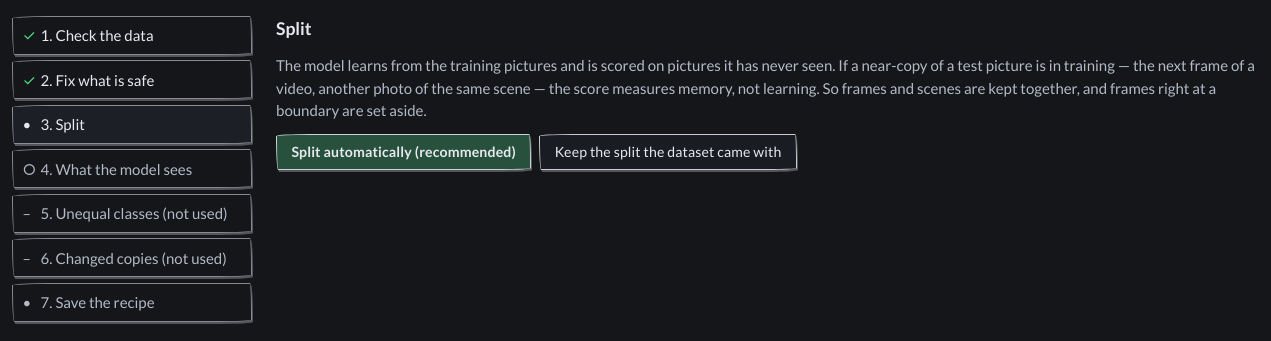
Test: steps the chosen model does not use (doc 107) › marks class balance and changed copies "not used" for SAM 3, and says why
The image size is (1271, 341).
Step 1. Click the button "– 5. Unequal classes (not used)" → (132,213), box x1=12 y1=194 x2=252 y2=233
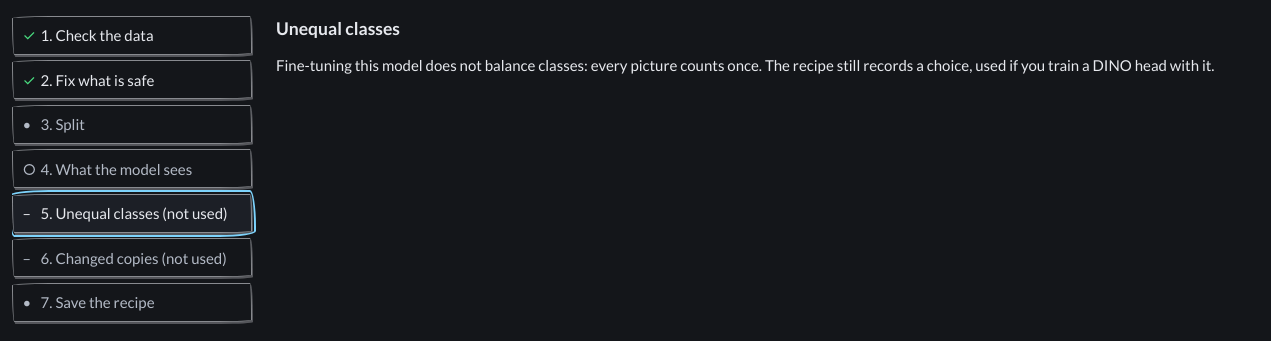
Expected: the text "does not balance classes" is shown, x1=276 y1=56 x2=1214 y2=74
